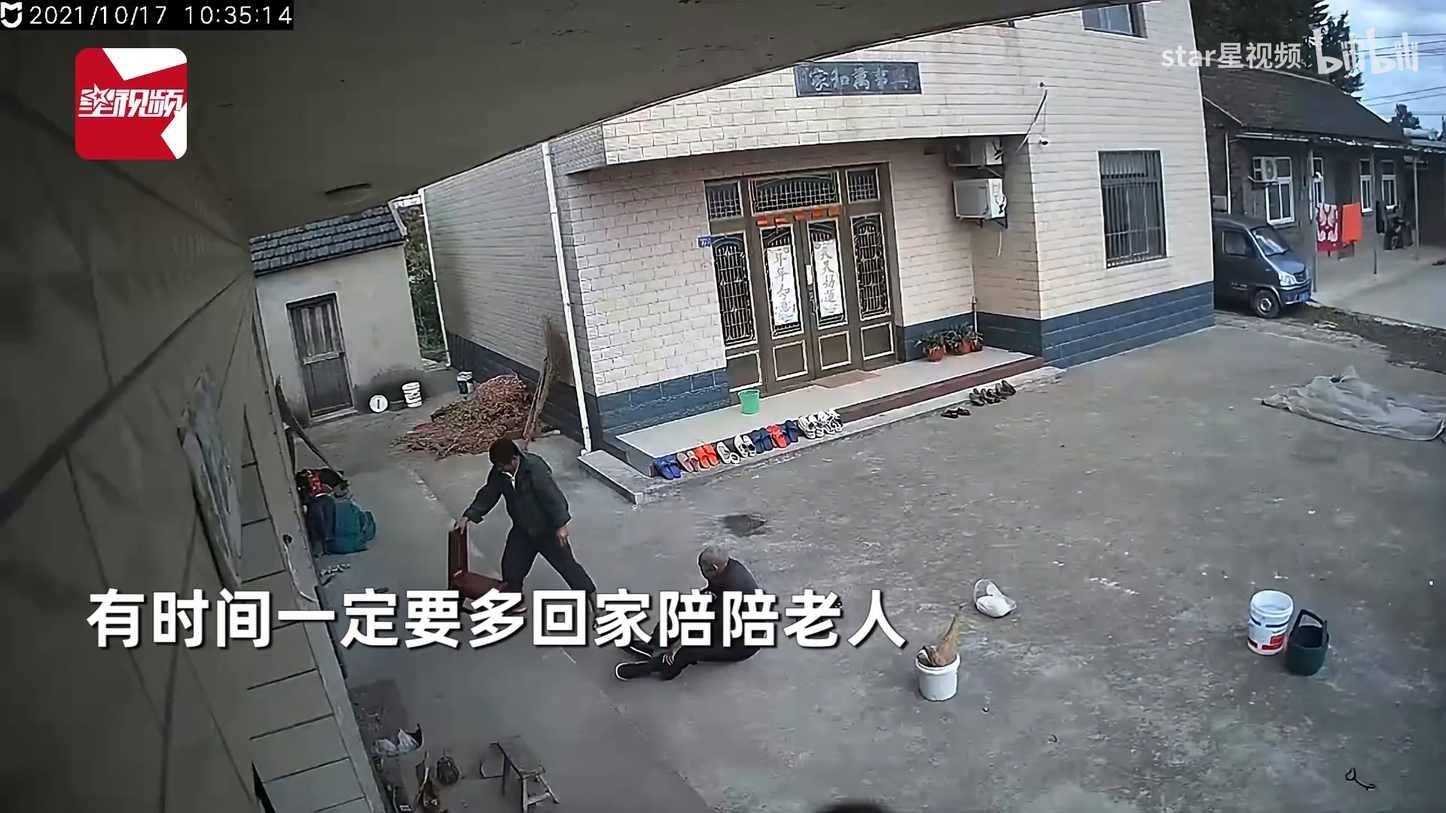half_up: (612, 541, 768, 683)
stand: (454, 437, 606, 630)
